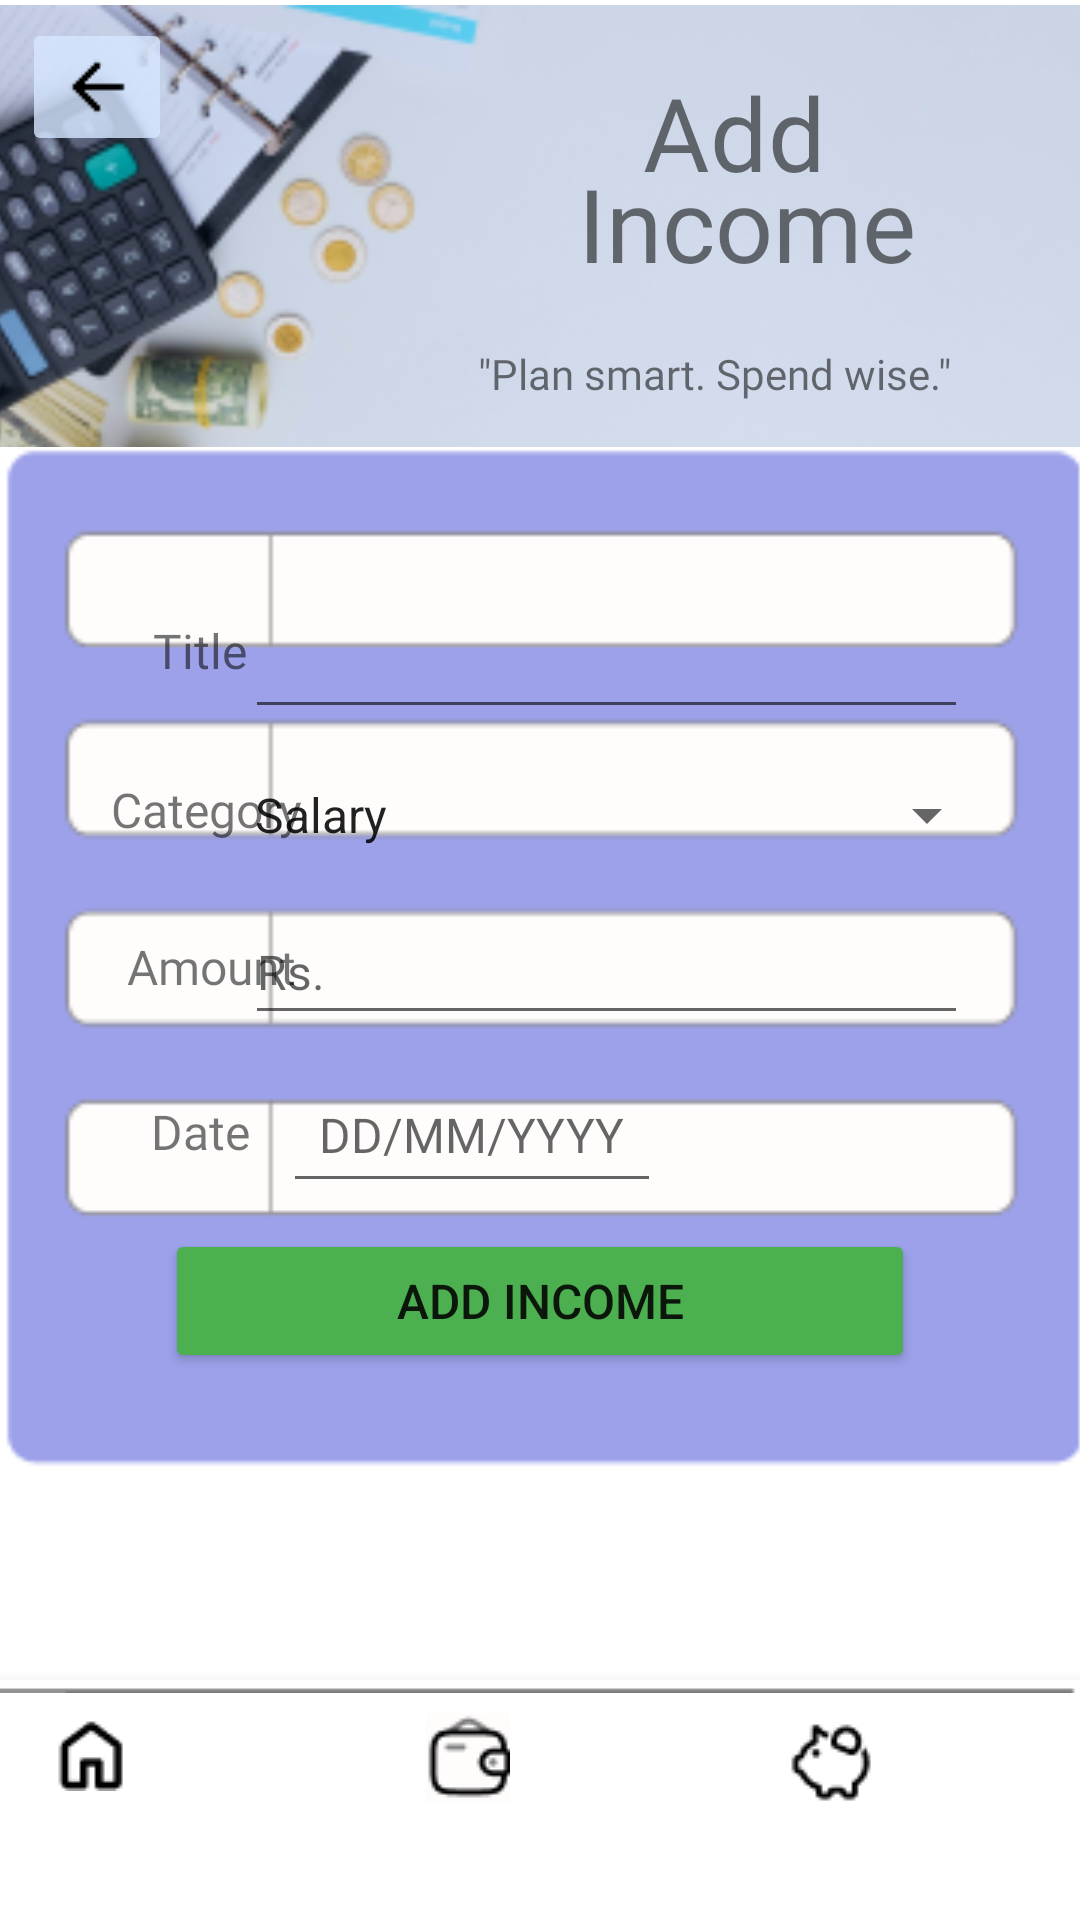

Screen size 1080 x 1920. Icon name, then its center in pixels as (x,y):
backbtn: (97,87)
homent: (90,1756)
savingsel: (831,1762)
walletnt: (469,1757)
